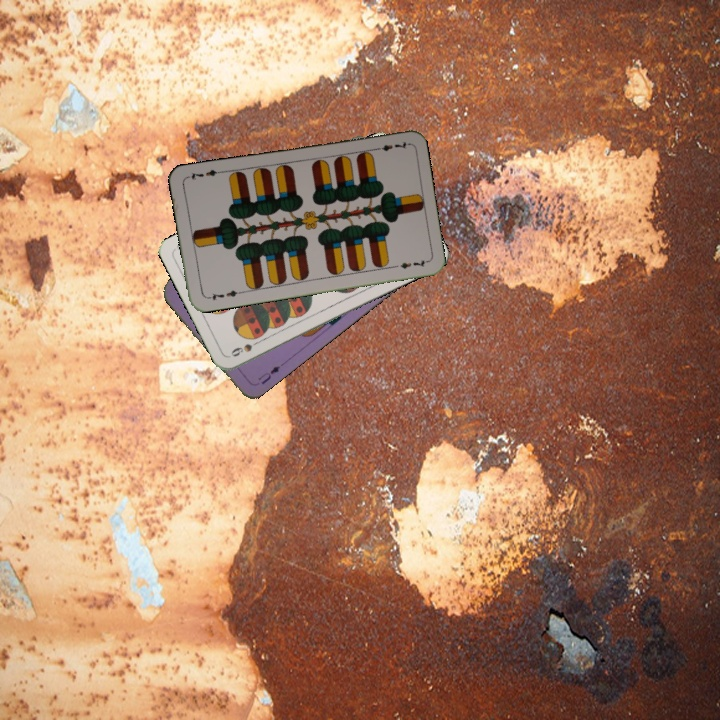E7: (203, 286, 243, 303), (370, 138, 410, 154)
EU: (254, 361, 283, 387)
S9: (227, 335, 265, 359)
